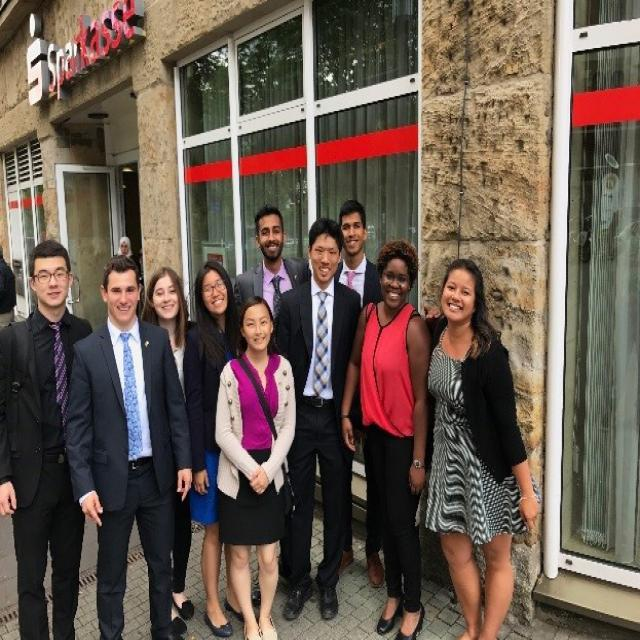body: (54, 248, 198, 639), (413, 254, 542, 638), (0, 237, 95, 640), (336, 241, 432, 639), (273, 216, 362, 621), (209, 291, 300, 638), (182, 258, 246, 636), (330, 198, 387, 590), (140, 264, 197, 640), (230, 202, 313, 352), (0, 243, 17, 330), (113, 232, 134, 256)
